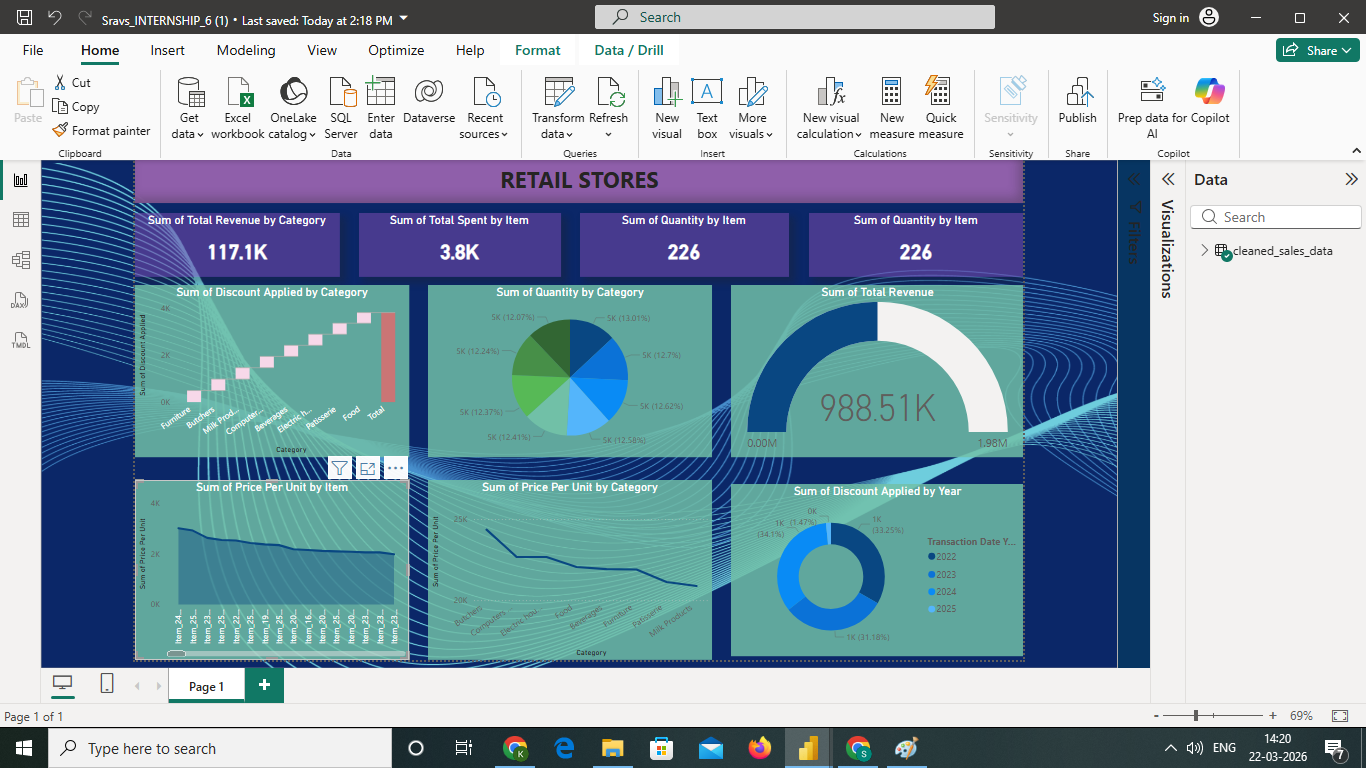

Layout of this report page (visuals, bound fields, positions):
{"tool":"powerbi","page":{"name":"Page 1","canvas":[1280,720],"ordinal":0},"visuals":[{"type":"card","title":"TOTAL REVENUE","fields":{"Values":["Sum(cleaned_sales_data.Total Revenue)"]},"box":[60.3,83.2,241.3,67.6],"z":0},{"type":"card","title":"QUANTITY ","fields":{"Values":["Sum(cleaned_sales_data.Quantity)"]},"box":[343.8,83.2,240.1,67.6],"z":1000},{"type":"card","title":"DISCOUNT ","fields":{"Values":["Sum(cleaned_sales_data.Discount Applied)"]},"box":[631,83.2,241.3,67.6],"z":2000},{"type":"card","title":"UNIT PRICE","fields":{"Values":["Sum(cleaned_sales_data.Price Per Unit)"]},"box":[908.4,83.2,241.3,68.8],"z":3000},{"type":"pieChart","fields":{"Category":["cleaned_sales_data.Category"],"Y":["Sum(cleaned_sales_data.Total Revenue)"]},"box":[25.3,173.7,365.6,260.6],"z":4000},{"type":"lineChart","fields":{"Y":["Sum(cleaned_sales_data.Total Revenue)"],"Category":["cleaned_sales_data.Location"]},"box":[16.9,446.4,374,229.2],"z":5000},{"type":"barChart","fields":{"Y":["Sum(cleaned_sales_data.Discount Applied)","Sum(cleaned_sales_data.Price Per Unit)"],"Category":["cleaned_sales_data.Item"]},"box":[390.9,177.3,304,252.1],"z":6000},{"type":"donutChart","fields":{"Y":["Sum(cleaned_sales_data.Quantity)","Sum(cleaned_sales_data.Total Revenue)"]},"box":[400.5,446.4,283.5,248.5],"z":7000},{"type":"funnel","fields":{"Category":["cleaned_sales_data.Item"],"Y":["Sum(cleaned_sales_data.Total Revenue)"]},"box":[699.7,177.3,304,252.1],"z":8000},{"type":"clusteredColumnChart","fields":{"Category":["cleaned_sales_data.Transaction Date.Variation.Date Hierarchy.Year","cleaned_sales_data.Transaction Date.Variation.Date Hierarchy.Quarter","cleaned_sales_data.Transaction Date.Variation.Date Hierarchy.Month","cleaned_sales_data.Transaction Date.Variation.Date Hierarchy.Day"],"Y":["CountNonNull(cleaned_sales_data.Transaction Date)","Sum(cleaned_sales_data.Total Revenue)"]},"box":[976,244.9,287.1,475.3],"z":9000},{"type":"gauge","fields":{"Y":["Sum(cleaned_sales_data.Total Spent)"],"MinValue":["Sum(cleaned_sales_data.Quantity)"]},"box":[684.1,454.8,273.9,248.5],"z":10000},{"type":"textbox","box":[60.3,26.5,1157,42.2],"z":11000}]}

Visuals, with their boxes on the page's 1280x720 design canvas (x1, y1, x2, y2). These are canvas units, not pixel positions in the 1366x768 screenshot, which may show the page scaled, cropped or inside an application window:
"TOTAL REVENUE" card: 60, 83, 302, 151
"QUANTITY " card: 344, 83, 584, 151
"DISCOUNT " card: 631, 83, 872, 151
"UNIT PRICE" card: 908, 83, 1150, 152
pieChart - cleaned_sales_data.Category x Sum(cleaned_sales_data.Total Revenue): 25, 174, 391, 434
lineChart - Sum(cleaned_sales_data.Total Revenue) x cleaned_sales_data.Location: 17, 446, 391, 676
barChart - Sum(cleaned_sales_data.Discount Applied) x Sum(cleaned_sales_data.Price Per Unit): 391, 177, 695, 429
donutChart - Sum(cleaned_sales_data.Quantity) x Sum(cleaned_sales_data.Total Revenue): 400, 446, 684, 695
funnel - cleaned_sales_data.Item x Sum(cleaned_sales_data.Total Revenue): 700, 177, 1004, 429
clusteredColumnChart - cleaned_sales_data.Transaction Date.Variation.Date Hierarchy.Year x cleaned_sales_data.Transaction Date.Variation.Date Hierarchy.Quarter: 976, 245, 1263, 720
gauge - Sum(cleaned_sales_data.Total Spent) x Sum(cleaned_sales_data.Quantity): 684, 455, 958, 703
textbox: 60, 26, 1217, 69
